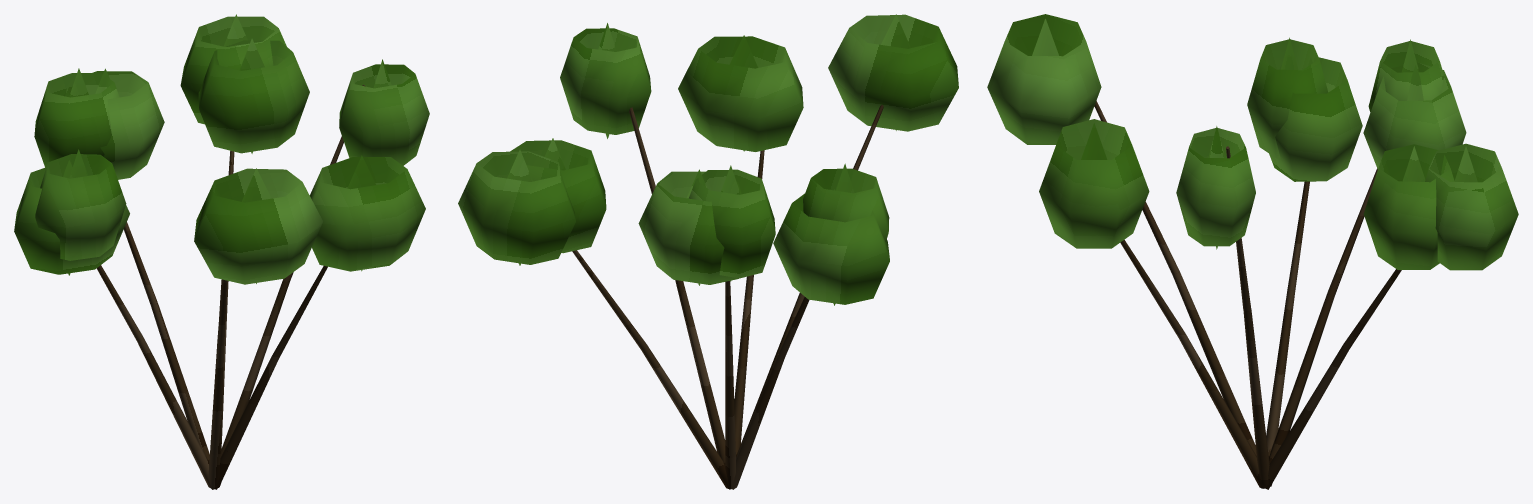
The model's file is filbert_small03-lod1.glb.
3 renders of one model, left to right at view 1: azimuth 30°, elevation 25°; view 2: azimuth 150°, elevation 25°; view 3: azimuth 270°, elevation 25°, orthographic. The views are drawn at different scales.
Parts seen in each view (by area): view 1: TZ_filbert_shrub_Batch_00_LOD1, TZ_filbert_shrub_Batch_01_LOD1; view 2: TZ_filbert_shrub_Batch_00_LOD1, TZ_filbert_shrub_Batch_01_LOD1; view 3: TZ_filbert_shrub_Batch_00_LOD1, TZ_filbert_shrub_Batch_01_LOD1.
Boxes of the visible parts, x1,y1,x2,y2 form: TZ_filbert_shrub_Batch_00_LOD1: (14,14,429,284); TZ_filbert_shrub_Batch_01_LOD1: (97,85,365,489); TZ_filbert_shrub_Batch_00_LOD1: (458,14,958,305); TZ_filbert_shrub_Batch_01_LOD1: (572,105,883,489); TZ_filbert_shrub_Batch_00_LOD1: (987,14,1518,270); TZ_filbert_shrub_Batch_01_LOD1: (1094,101,1401,489).
Bounding box in the file's own units: 0.973 × 1.05 × 1.15.
Materials: 2 (2 with a texture image).
